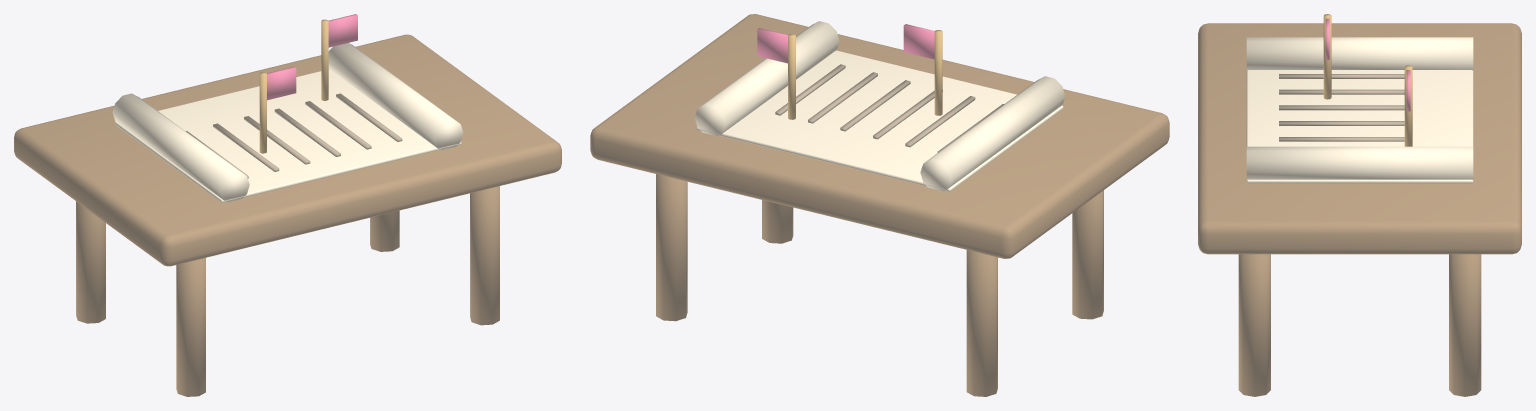
The model's file is castle_detail_war_table_purified.glb.
3 renders of one model, left to right at view 1: azimuth 30°, elevation 25°; view 2: azimuth 150°, elevation 25°; view 3: azimuth 270°, elevation 25°, orthographic. The views are drawn at different scales.
Visible parts, largest first — view 1: castle_detail_war_table_purified_surface; view 2: castle_detail_war_table_purified_surface; view 3: castle_detail_war_table_purified_surface.
Boxes of the visible parts, x1=… form: castle_detail_war_table_purified_surface: x1=14, y1=14, x2=561, y2=396; castle_detail_war_table_purified_surface: x1=590, y1=14, x2=1169, y2=396; castle_detail_war_table_purified_surface: x1=1198, y1=14, x2=1521, y2=396.
Bounding box in the file's own units: 3 × 1.9 × 2.
